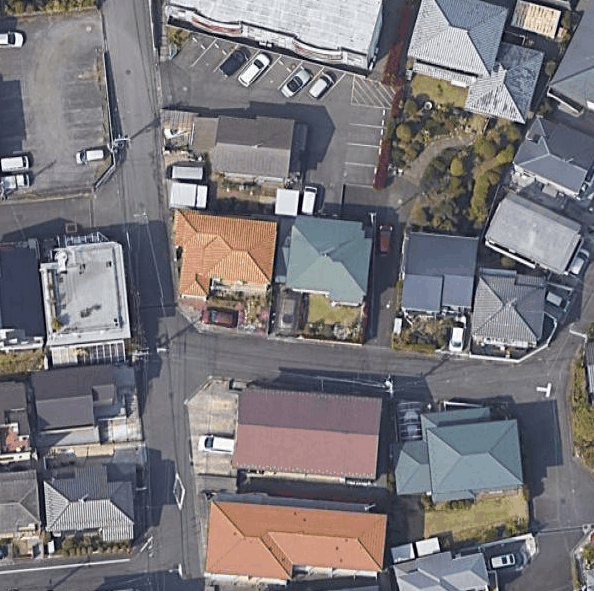flatroof: (188, 0, 383, 41)
parkinglot: (142, 23, 395, 142), (0, 11, 109, 181)
